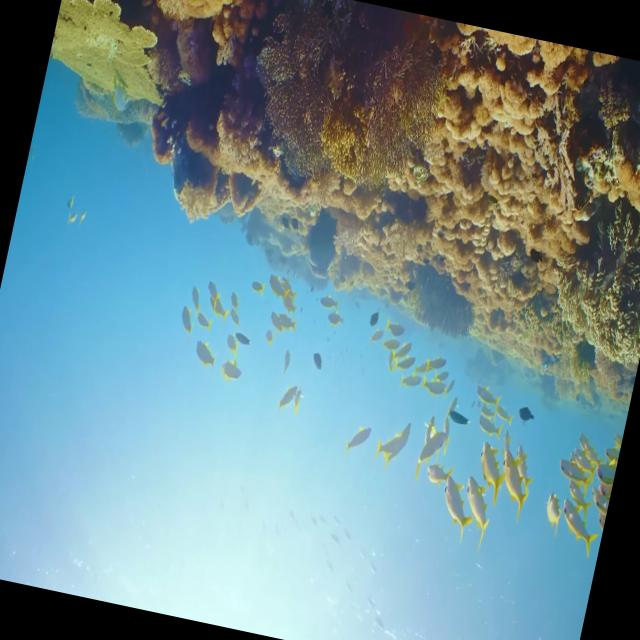fish: (491, 441, 538, 516), (432, 472, 482, 538), (456, 478, 498, 542), (554, 500, 598, 556), (470, 440, 512, 496), (372, 414, 413, 462), (342, 417, 373, 459)
